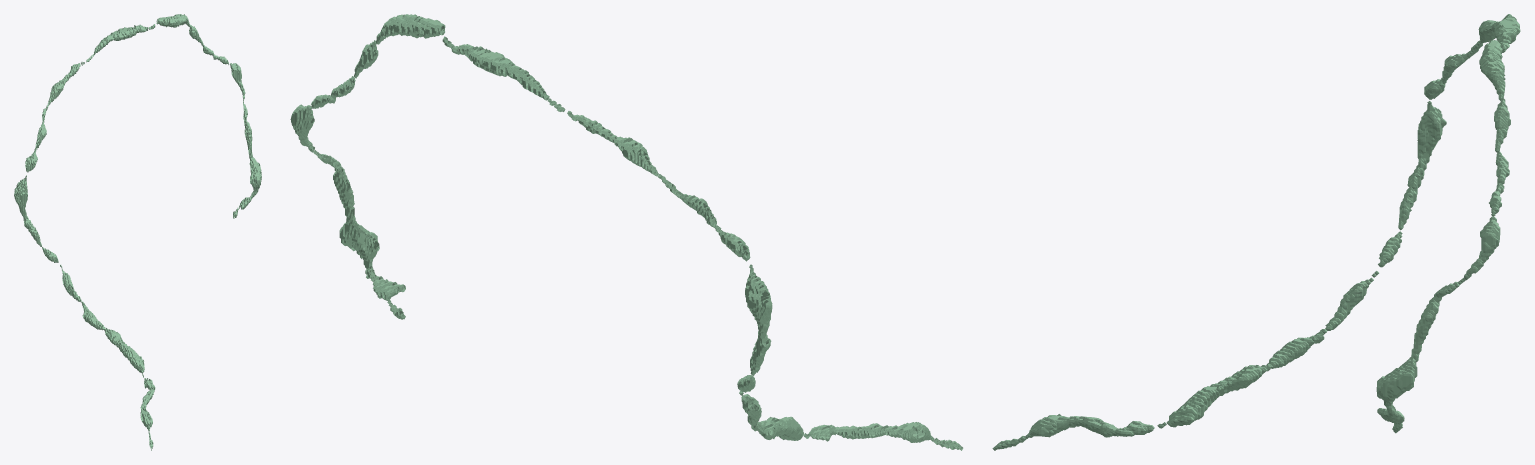
File: SVV_ASEL.gltf
The picture shows the model from 3 angles, left to right: view 1: azimuth 30°, elevation 25°; view 2: azimuth 150°, elevation 25°; view 3: azimuth 270°, elevation 25°; orthographic projection. The views are drawn at different scales.
Visible parts, largest first — view 1: ASEL; view 2: ASEL; view 3: ASEL.
Part boxes in pixels (<box>): ASEL: <box>14,14,261,450</box>; ASEL: <box>290,14,963,450</box>; ASEL: <box>992,14,1520,450</box>.
Bounding box in the file's own units: 135490 × 158304 × 140671.
